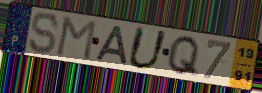7: (201, 38, 233, 81)
A: (94, 25, 130, 67)
M: (54, 15, 99, 63)
Q: (165, 34, 202, 79)
S: (28, 12, 61, 56)
U: (125, 25, 171, 71)
